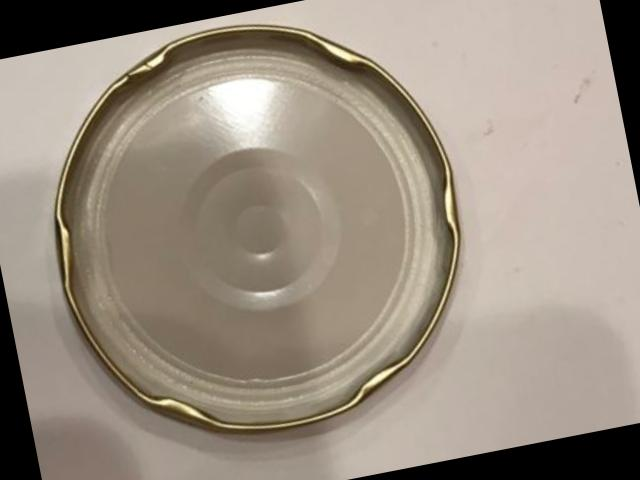metal: (56, 23, 459, 426)
